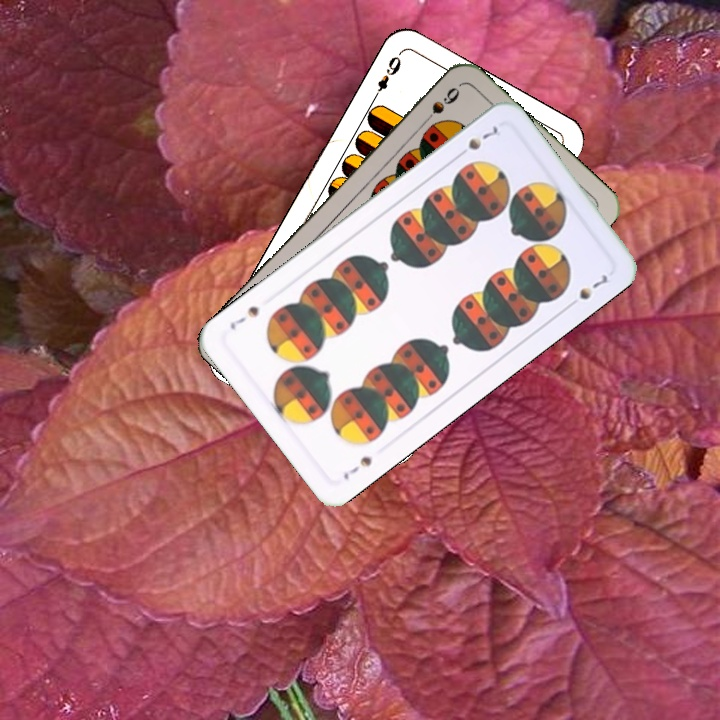E9: (368, 50, 404, 104)
S7: (452, 121, 501, 161), (339, 452, 376, 483)
S9: (417, 83, 463, 130)
